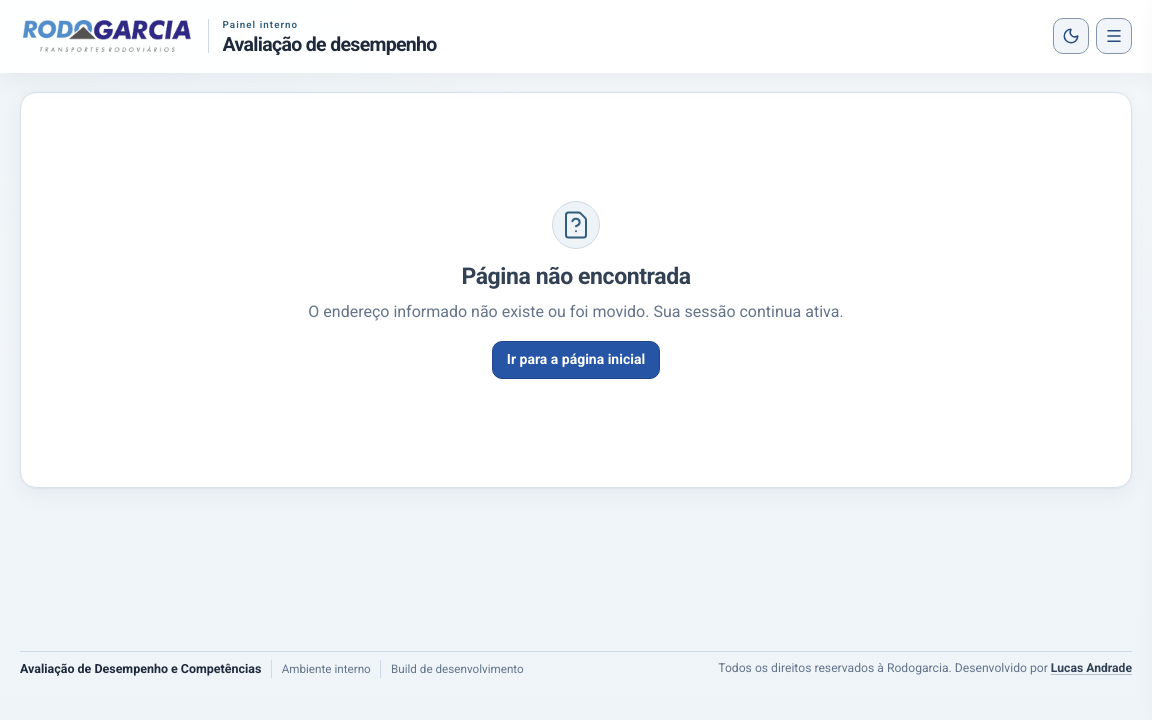
App › mantém a sessão e explica quando a rota interna não existe
The image size is (1152, 720).
Expected: the heading "Página não encontrada" is shown, [461,263,691,291]
Expected: the text "Sua sessão continua ativa." is shown, [308,302,844,321]
Click the button "Ir para a página inicial" at (576, 360), box [492,341,660,379]
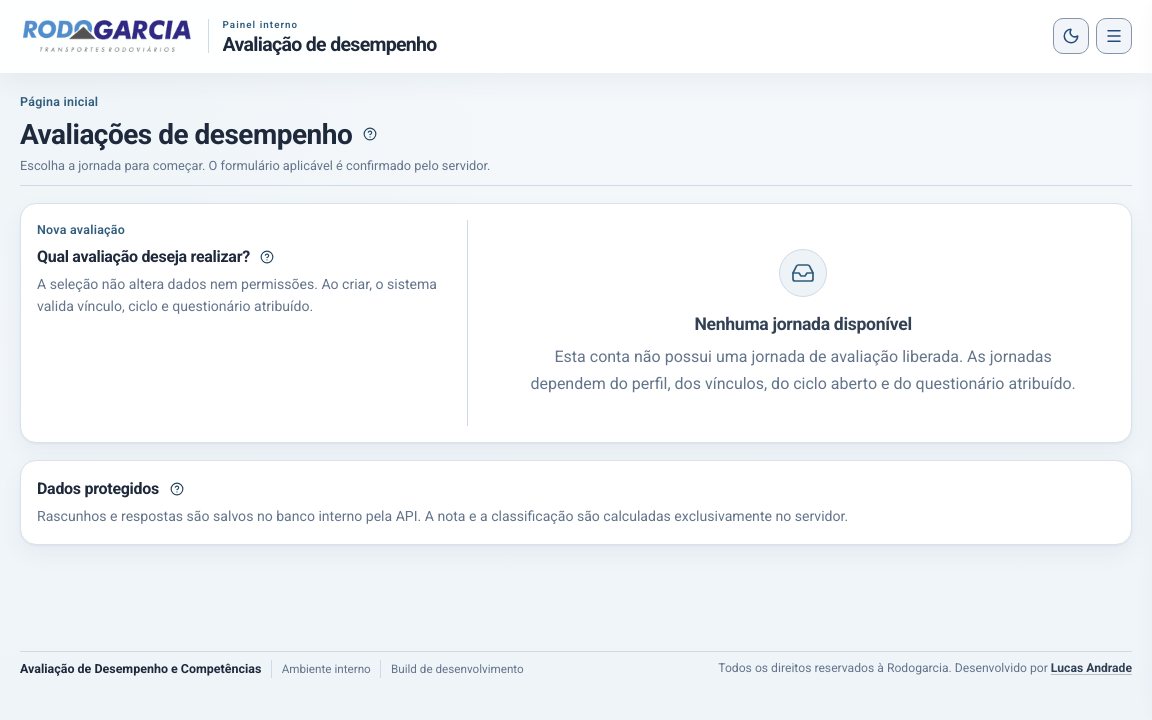
Result: the heading "Avaliações de desempenho" is shown at [20,117,352,152]
